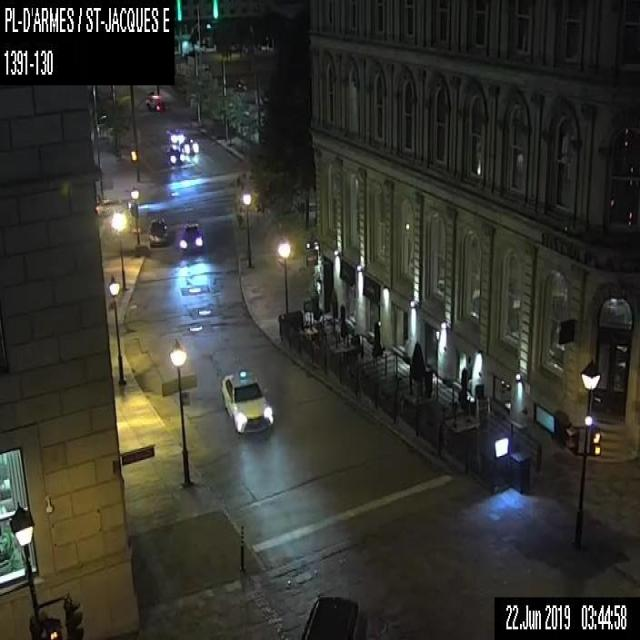vehicle: (219, 367, 273, 433), (300, 593, 365, 639), (178, 220, 204, 256), (148, 216, 169, 246), (144, 93, 166, 111), (179, 136, 199, 154), (168, 146, 184, 166), (166, 128, 185, 143)
